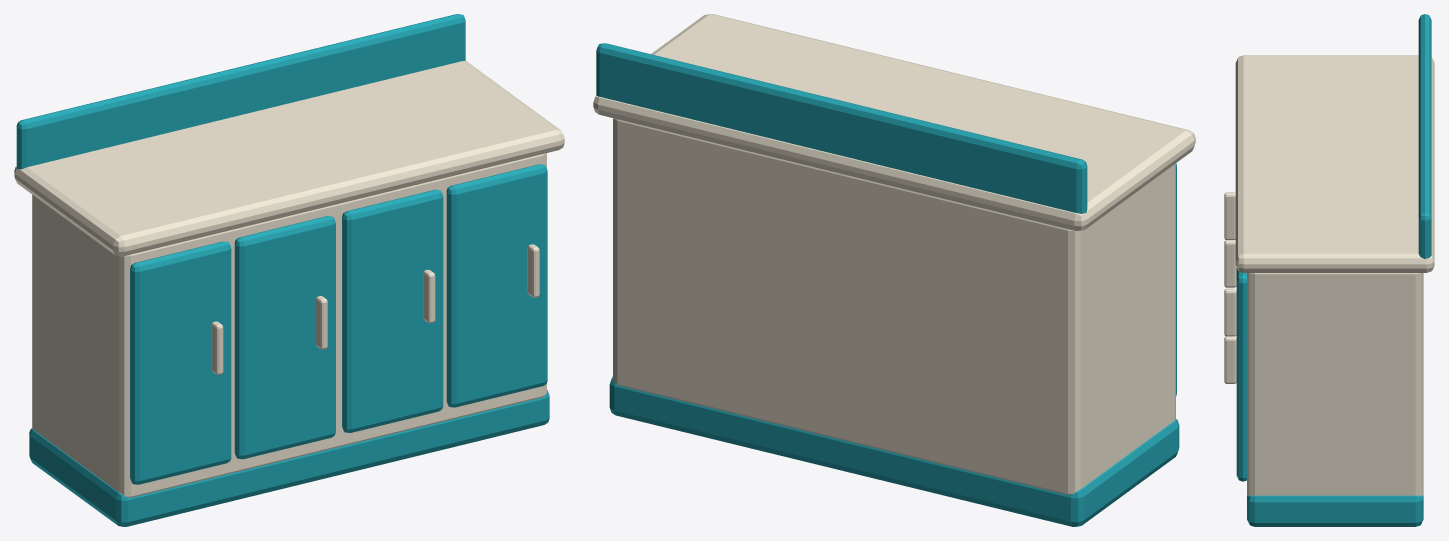
The model's file is prep_storage_standard.glb.
The picture shows the model from 3 angles, left to right: view 1: azimuth 30°, elevation 25°; view 2: azimuth 150°, elevation 25°; view 3: azimuth 270°, elevation 25°; orthographic projection. The views are drawn at different scales.
Visible parts, largest first — view 1: STATIC_cream.029, STATIC_teal.038, MOVING_door.003, MOVING_door, MOVING_door.001, MOVING_door.002; view 2: STATIC_cream.029, STATIC_teal.038; view 3: STATIC_cream.029, STATIC_teal.038, MOVING_door.003.
Part boxes in pixels (x1,y1,x2,y2): STATIC_cream.029: [14, 61, 564, 497]; STATIC_teal.038: [16, 14, 549, 526]; MOVING_door.003: [446, 164, 547, 407]; MOVING_door: [130, 241, 231, 484]; MOVING_door.001: [234, 216, 335, 459]; MOVING_door.002: [342, 189, 443, 432]; STATIC_cream.029: [593, 14, 1195, 494]; STATIC_teal.038: [596, 43, 1179, 526]; STATIC_cream.029: [1224, 55, 1434, 496]; STATIC_teal.038: [1247, 14, 1431, 526]; MOVING_door.003: [1236, 268, 1247, 481].
Size of the model in its own units: 1.51 by 1.09 by 0.656.
